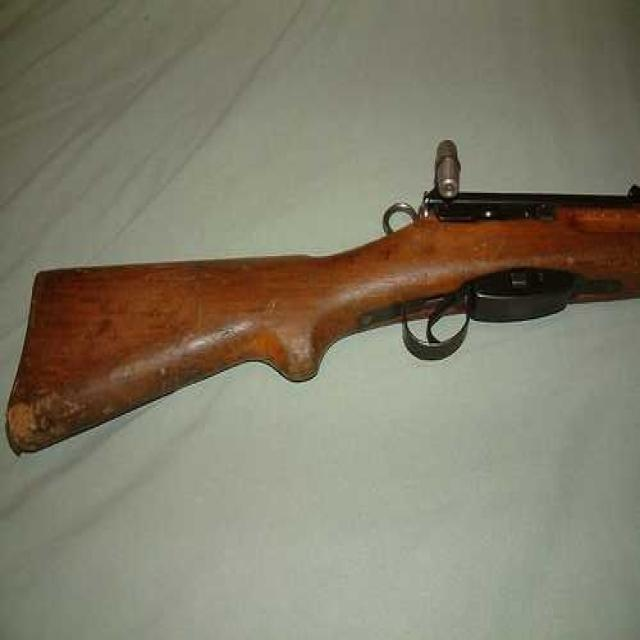heavyweapon: (5, 127, 640, 467)
